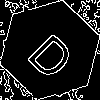D: (25, 25, 83, 83)
